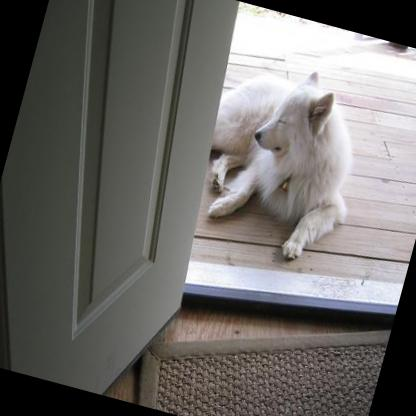Samoyed: (174, 33, 388, 276)
